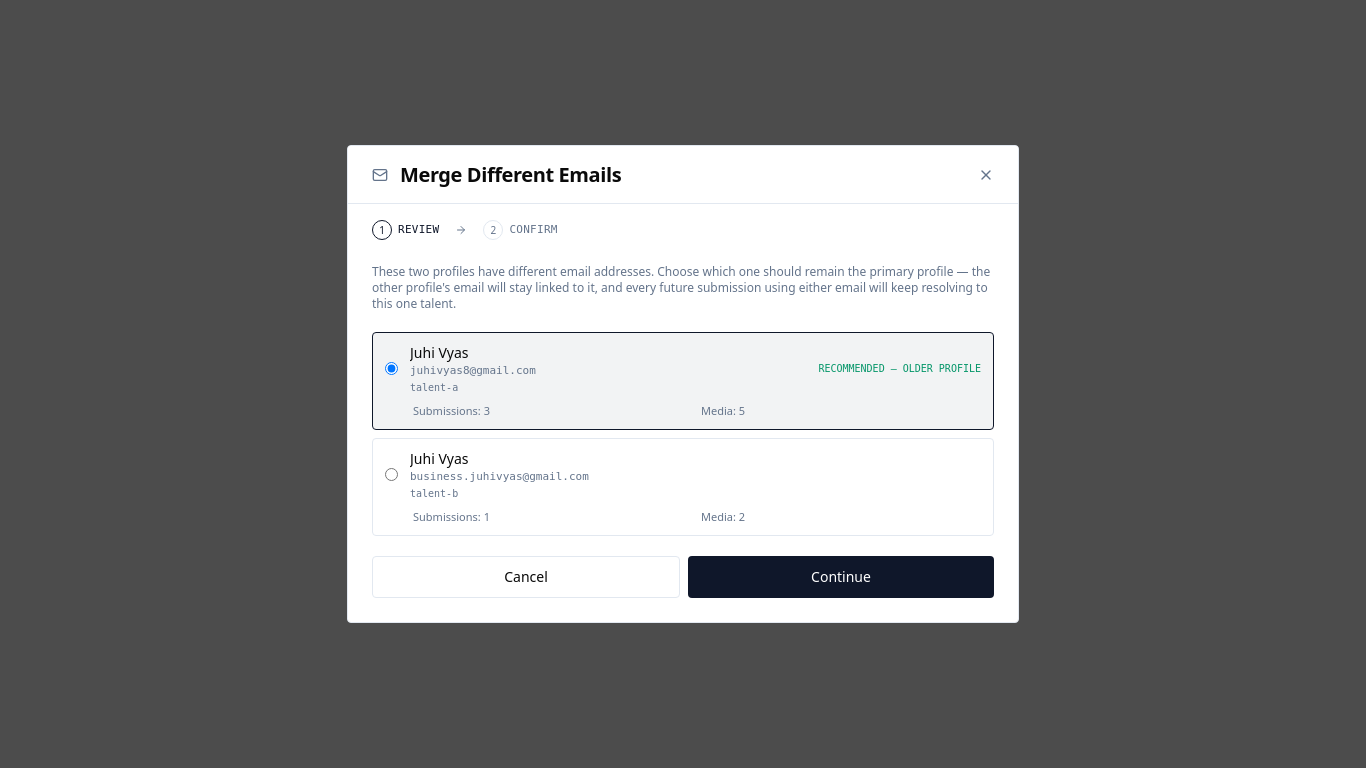
Test: MergeEmailsModal — separate action from Merge Talents › lets the admin flip which profile survives before confirming
Later steps or results of the test are not shown.
Expected: the element with test id "merge-emails-step-review" is shown, left=372, top=264, right=994, bottom=598
Click the 2nd radio button at x=392, y=475, box left=385, top=468, right=398, bottom=481
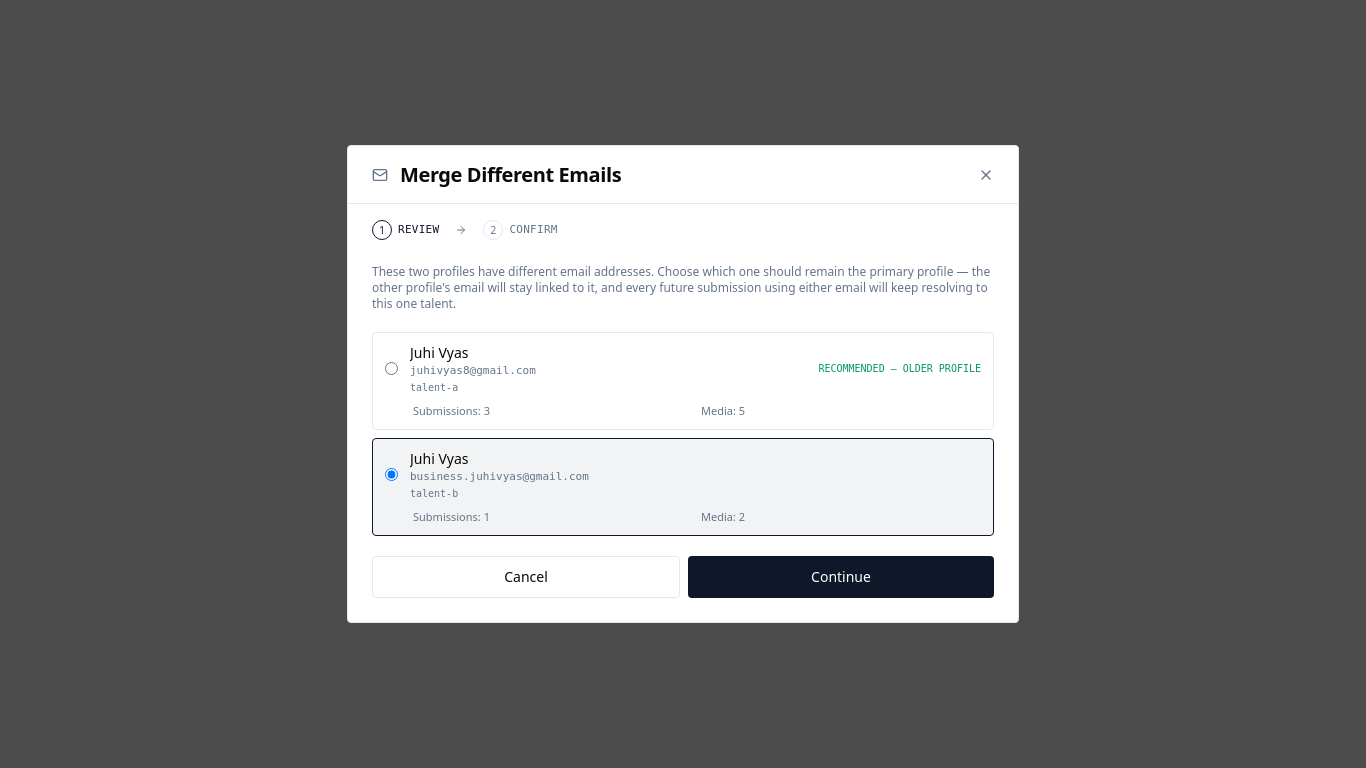
Click the button with test id "merge-emails-continue-to-confirm" at x=841, y=577, box left=688, top=556, right=994, bottom=598
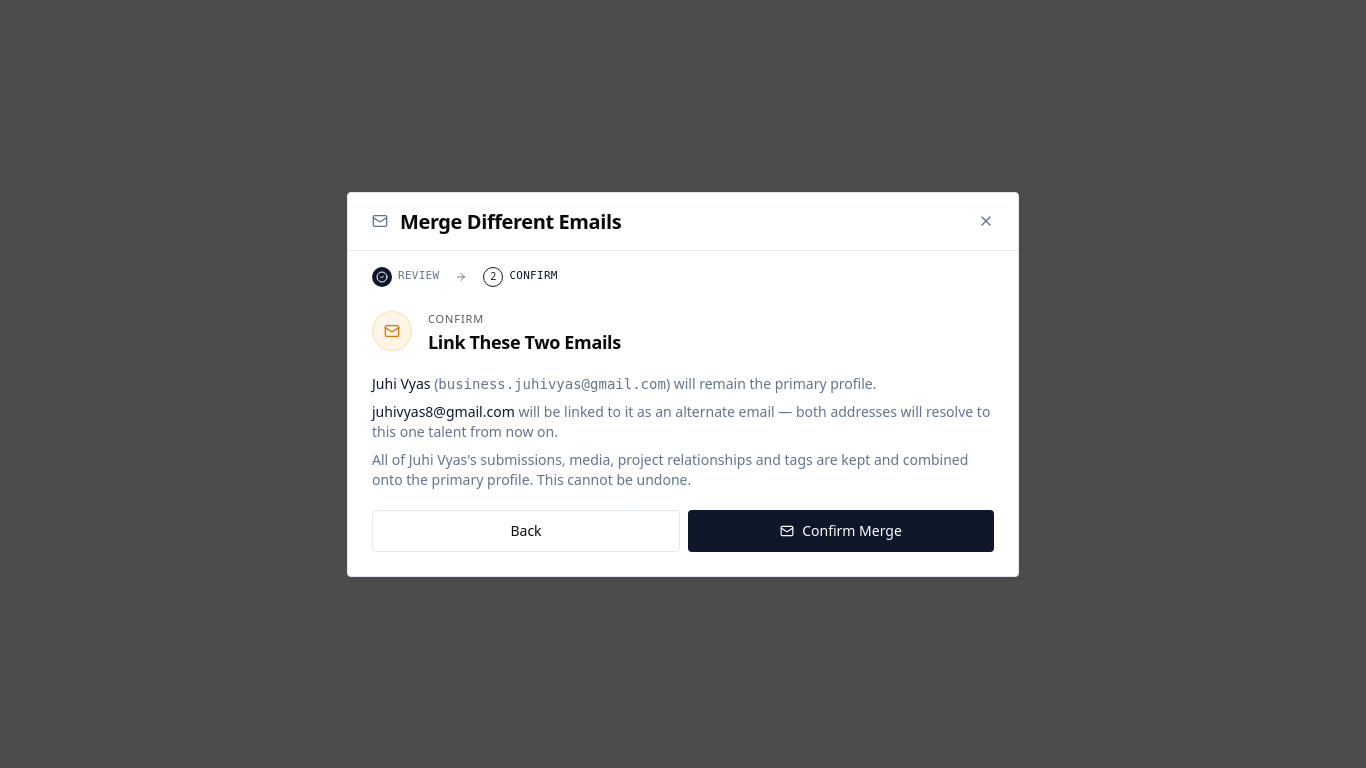
Expected: the element with test id "merge-emails-step-confirm" is shown, left=372, top=310, right=994, bottom=552
